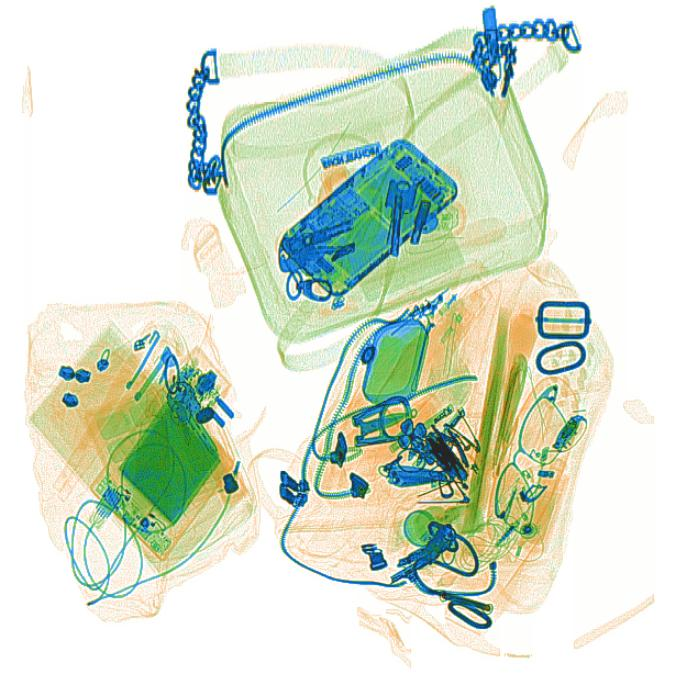plasticBottleWithaNozzle: (371, 272, 493, 438)
scissors: (349, 393, 417, 448)
